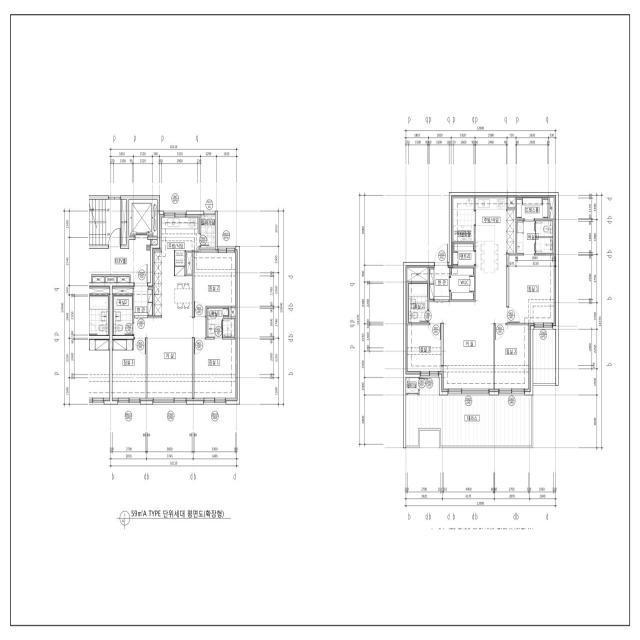space_bedroom: (509, 255, 555, 325), (194, 250, 237, 316), (194, 339, 237, 401), (495, 325, 528, 391), (112, 339, 146, 400), (407, 325, 441, 374)
space_dressroom: (517, 198, 548, 219)
space_elevator: (129, 200, 157, 236)
space_elevator_hall: (91, 240, 150, 283)
space_front: (429, 266, 449, 300), (134, 286, 153, 318)
space_kitchen: (153, 215, 200, 318), (476, 198, 515, 274)
space_living_room: (429, 274, 506, 391), (134, 318, 206, 401)
space_other: (453, 197, 474, 242), (451, 268, 474, 300), (453, 244, 474, 266), (407, 268, 428, 281), (122, 200, 126, 245), (112, 286, 133, 294), (187, 253, 193, 274), (549, 198, 554, 219), (93, 277, 104, 283), (118, 277, 129, 283), (508, 198, 515, 207), (231, 308, 238, 316), (106, 277, 116, 282), (152, 240, 157, 245)
space_outdoor_room: (201, 215, 215, 248), (406, 378, 418, 393)
space_staircase: (89, 199, 121, 245)
space_toilet: (517, 221, 553, 253), (408, 283, 428, 323), (207, 308, 234, 337), (113, 296, 132, 335)
